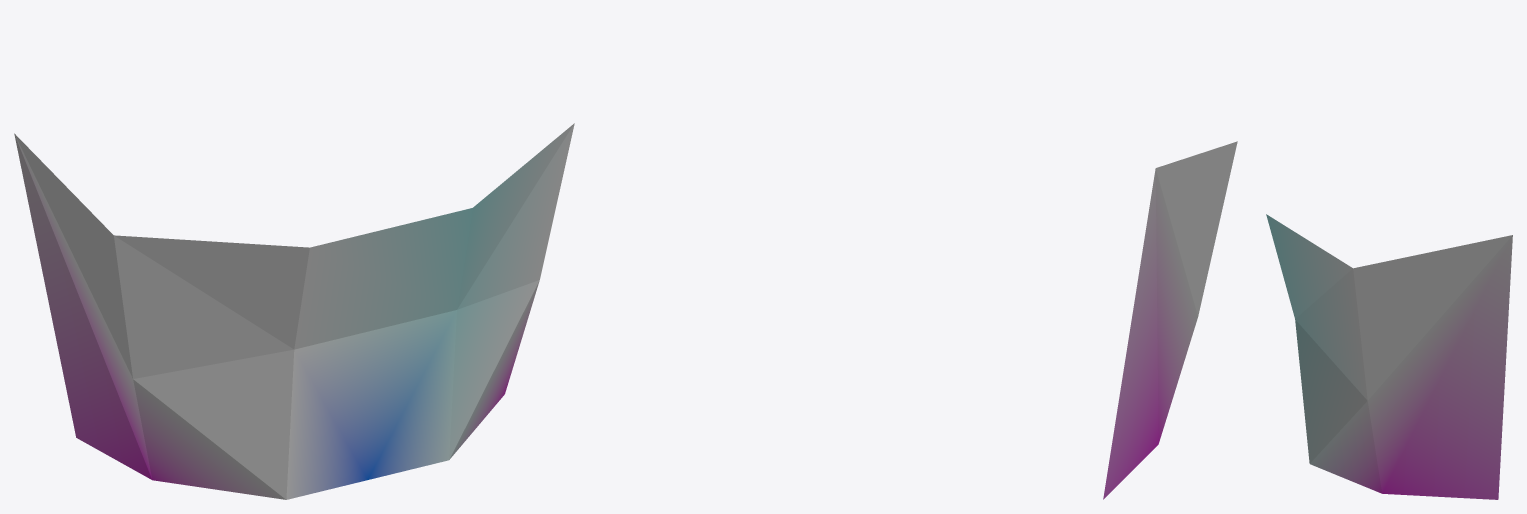
3 renders of one model, left to right at view 1: azimuth 30°, elevation 25°; view 2: azimuth 150°, elevation 25°; view 3: azimuth 270°, elevation 25°, orthographic. The views are drawn at different scales.
Parts seen in each view (by area): view 1: model_10F6; view 2: model_10F6; view 3: model_10F6.
Boxes of the visible parts, x1,y1,x2,y2 form: model_10F6: (14, 123, 574, 499); model_10F6: (1103, 141, 1237, 499); model_10F6: (1266, 214, 1512, 499).
Size of the model in its own units: 36 by 23 by 17.
